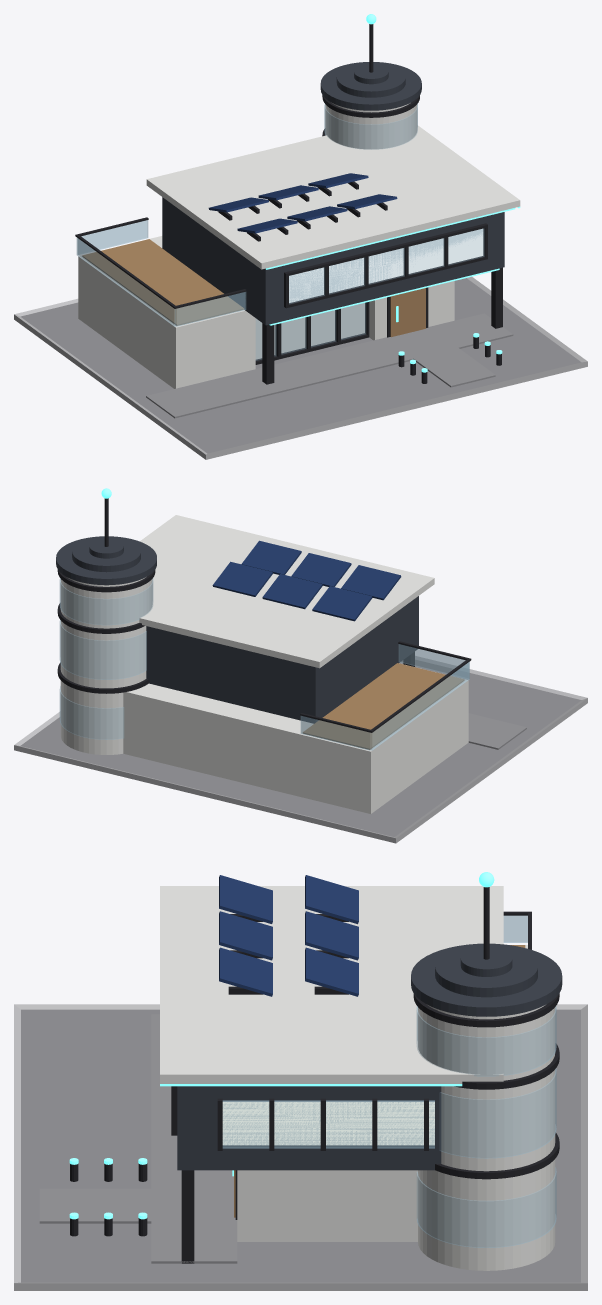
Rendered from house.glb.
3 renders of one model, top to bottom at view 1: azimuth 30°, elevation 25°; view 2: azimuth 150°, elevation 25°; view 3: azimuth 270°, elevation 25°, orthographic. The views are drawn at different scales.
Parts seen in each view (by area): view 1: House_Roof_Slab, Base_Futuristic_House, House_Upper_Floor, House_Terrace_Paving, House_Ground_Floor, House_Terrace_Deck, House_Ground_Floor_Front_L, House_Upper_Front_Glass, House_Upper_Front_Glow, House_Terrace_Rail_Glass, House_Tower_Crown, House_Tower (+13 smaller); view 2: House_Ground_Floor, Base_Futuristic_House, House_Roof_Slab, House_Upper_Floor, House_Tower, House_Tower_Glass, House_Solar_Panels, House_Terrace_Deck, House_Terrace_Rail_Glass, House_Tower_Crown, House_Tower_Rings, House_Terrace_Paving (+2 smaller); view 3: Base_Futuristic_House, House_Roof_Slab, House_Tower, House_Tower_Glass, House_Upper_Floor, House_Solar_Panels, House_Ground_Floor, House_Terrace_Paving, House_Upper_Side_Glass, House_Tower_Crown, House_Upper_Side_Glow, House_Entry_Path (+8 smaller).
Boxes of the visible parts, x1,y1,x2,y2 form: House_Roof_Slab: (146,125,520,269); Base_Futuristic_House: (14,276,587,459); House_Upper_Floor: (162,197,504,325); House_Terrace_Paving: (146,313,513,418); House_Ground_Floor: (78,236,364,383); House_Terrace_Deck: (82,239,243,325); House_Ground_Floor_Front_L: (167,310,255,388); House_Upper_Front_Glass: (289,228,484,303); House_Upper_Front_Glow: (289,229,483,302); House_Terrace_Rail_Glass: (76,220,246,326); House_Tower_Crown: (320,62,421,110); House_Tower: (325,102,417,149); House_Ground_Floor: (123,683,459,813); Base_Futuristic_House: (14,656,587,843); House_Roof_Slab: (139,515,434,668); House_Upper_Floor: (146,596,418,723); House_Tower: (60,577,152,754); House_Tower_Glass: (59,578,153,739); House_Solar_Panels: (212,540,401,621); House_Terrace_Deck: (303,663,464,749); House_Terrace_Rail_Glass: (300,644,469,750); House_Tower_Crown: (56,536,156,585); House_Tower_Rings: (57,569,155,693); House_Terrace_Paving: (468,713,526,749); Base_Futuristic_House: (14,1004,587,1290); House_Roof_Slab: (160,886,503,1083); House_Tower: (418,1004,555,1270); House_Tower_Glass: (416,1006,556,1247); House_Upper_Floor: (177,1086,441,1170); House_Solar_Panels: (219,875,358,996); House_Ground_Floor: (263,945,527,1241); House_Terrace_Paving: (151,1014,237,1263); House_Upper_Side_Glass: (222,1100,434,1148); House_Tower_Crown: (411,943,562,1016); House_Upper_Side_Glow: (222,1102,434,1145); House_Entry_Path: (39,1188,151,1223).
Size of the model in its own units: 76.8 by 48.2 by 66.8.
